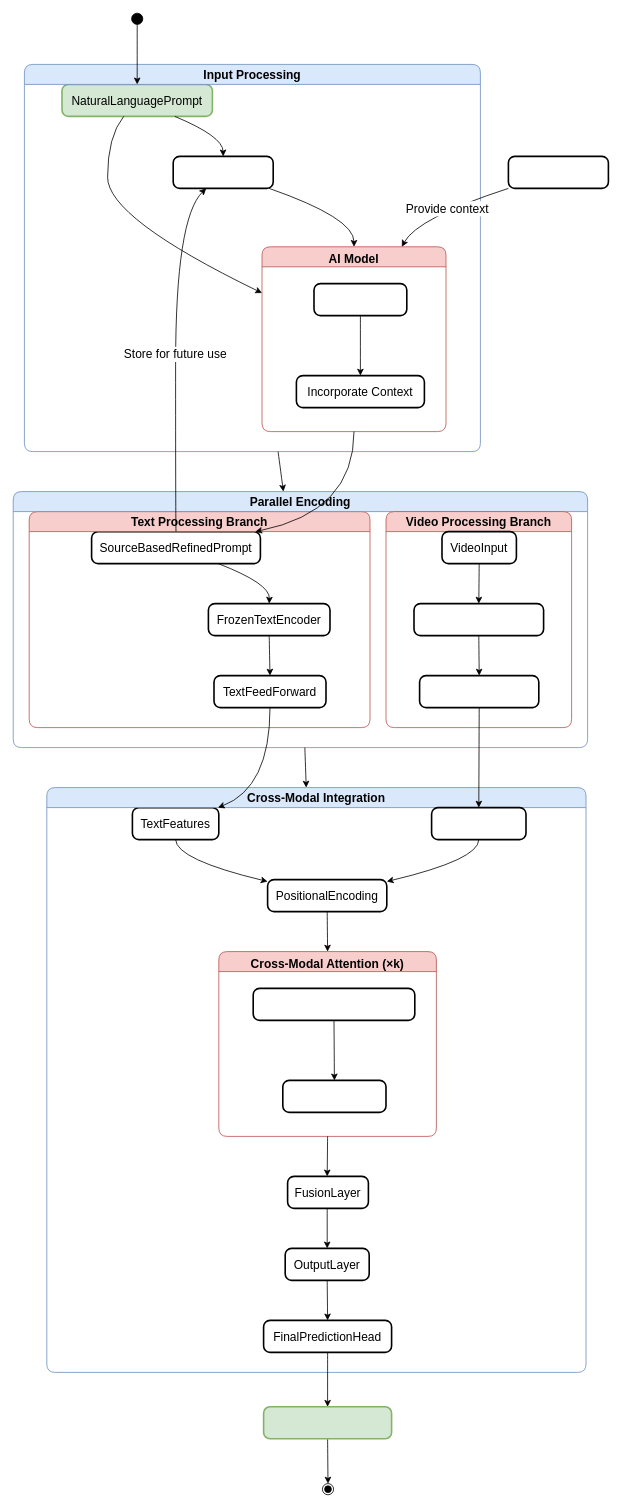
Image size: 622x1508. Some labels were removed from this diagram. The shapes that lost their labels are listed below. From the top down, each one's centre as x and y in pixels, then its label:
point 223,172: SemanticCache
point 558,172: WitnessReports
point 360,299: Process Query
point 478,619: FrozenVideoEncoder
point 478,691: VideoFeedForward
point 478,823: VideoFeatures
point 333,1004: Compute Attention Scores
point 334,1096: Align Modalities
point 327,1422: Temporal predictions
